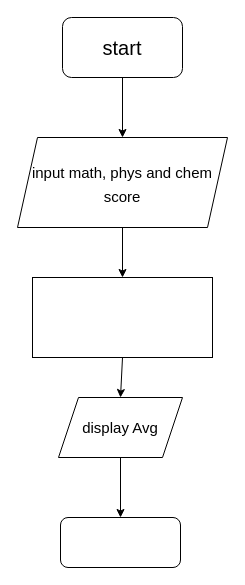
Some shapes in this 245 by 585 pixel diagram are drawn without their labels. Each missing label, with the centre of its shape:
Avg= (math+phys+chem)/3: the point at 122,317
end: the point at 120,542
